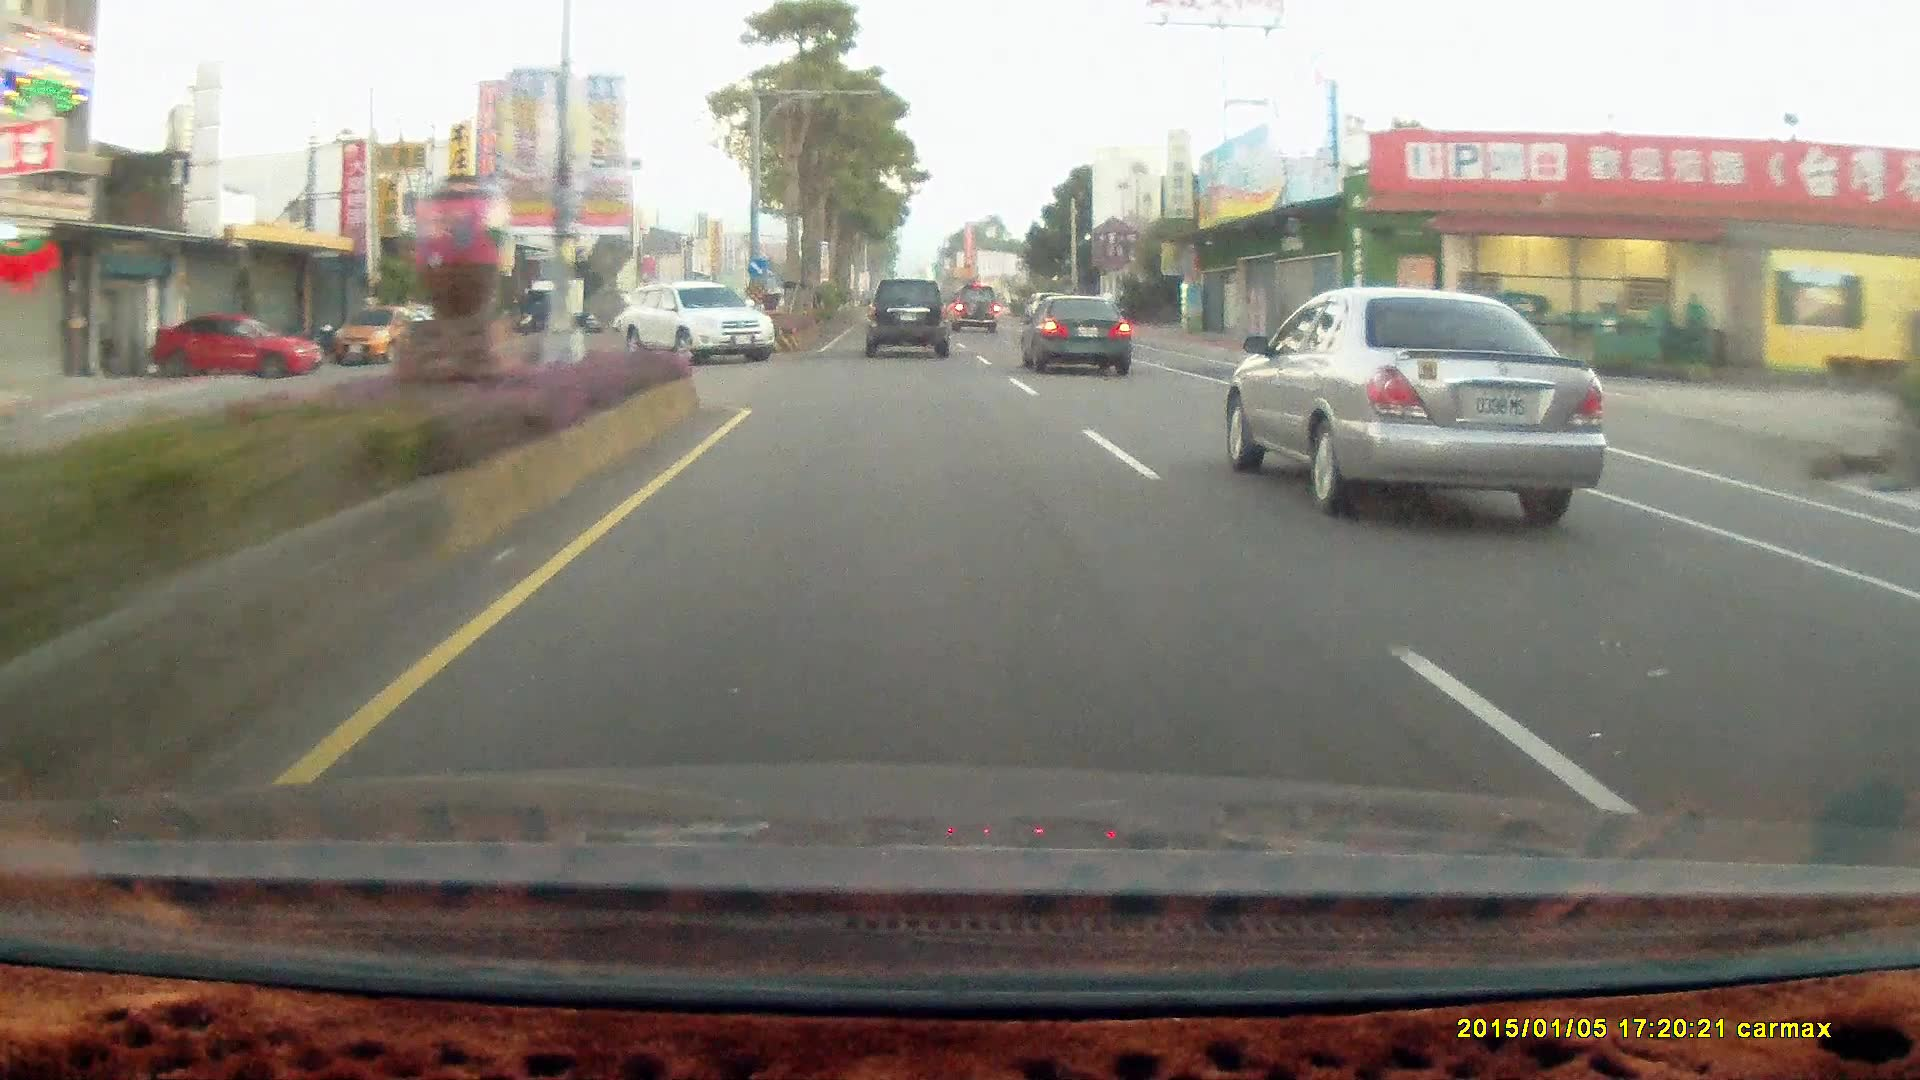vehicle: (1247, 284, 1619, 516), (617, 276, 775, 367), (632, 277, 781, 361), (152, 313, 324, 378), (149, 314, 322, 380), (1018, 290, 1131, 375), (1025, 297, 1135, 375), (328, 302, 454, 368), (869, 278, 957, 357), (864, 276, 948, 353), (328, 305, 419, 364), (386, 302, 479, 347), (948, 284, 1001, 335)
